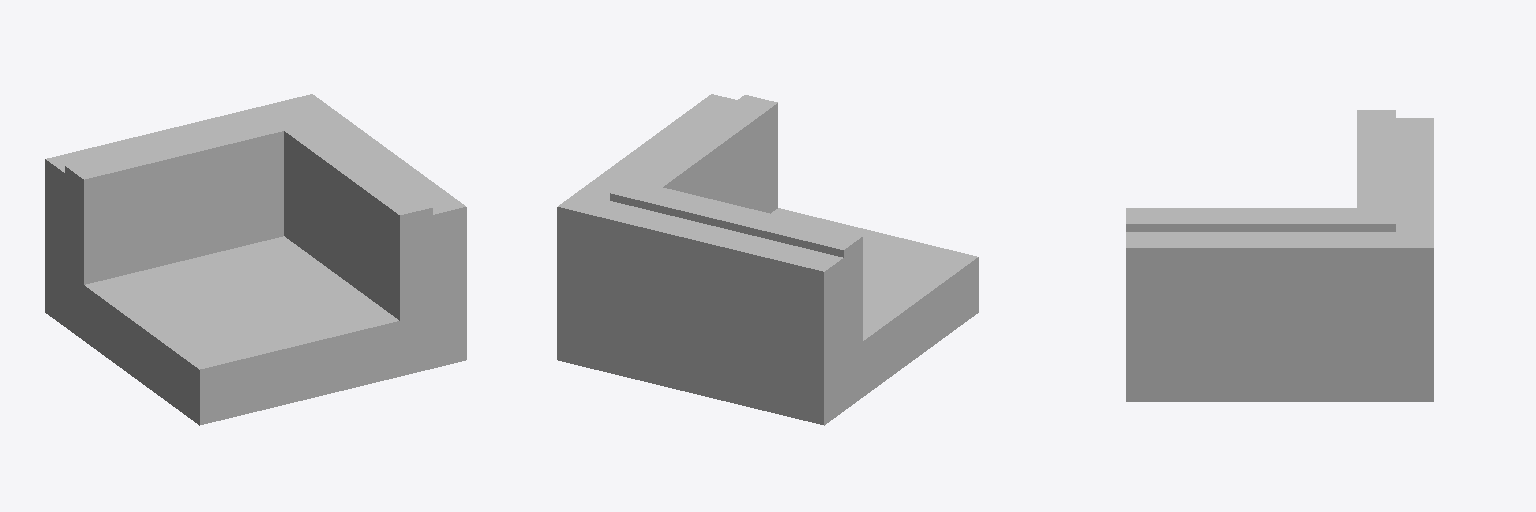
File: tile183.obj
3 renders of one model, left to right at view 1: azimuth 30°, elevation 25°; view 2: azimuth 150°, elevation 25°; view 3: azimuth 270°, elevation 25°, orthographic.
Parts seen in each view (by area): view 1: tile183; view 2: tile183; view 3: tile183.
Boxes of the visible parts, box(x1,y1,x2,y2) form: tile183: box(45, 94, 466, 425); tile183: box(557, 94, 978, 425); tile183: box(1126, 110, 1433, 401).
Bounding box in the file's own units: 1 × 0.5767 × 1.